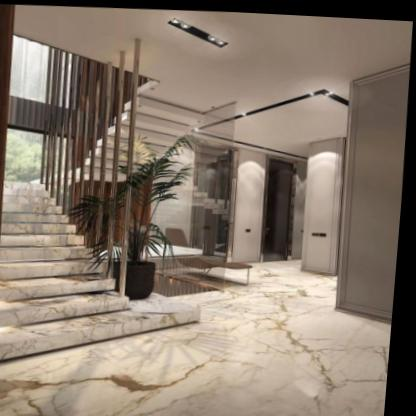Ceramic floor: (0, 256, 397, 416)
